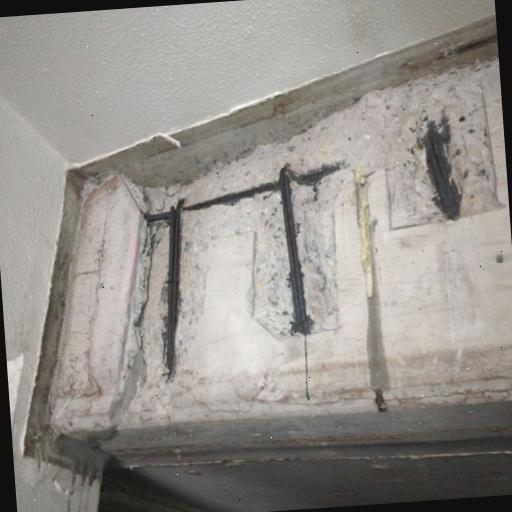spalling: (135, 181, 347, 394), (380, 74, 489, 224)
